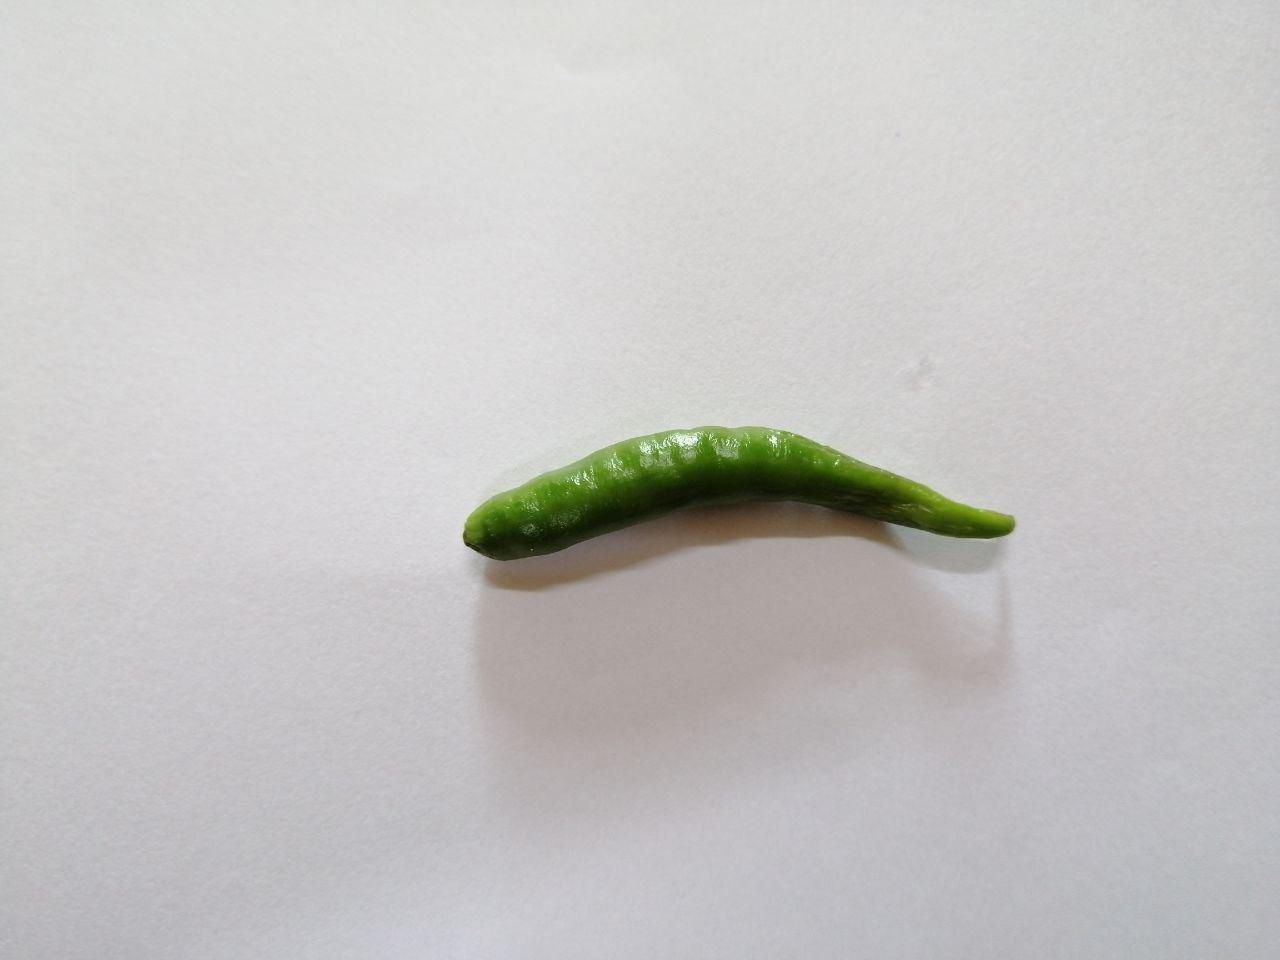lada hijau: (455, 403, 1031, 619)
